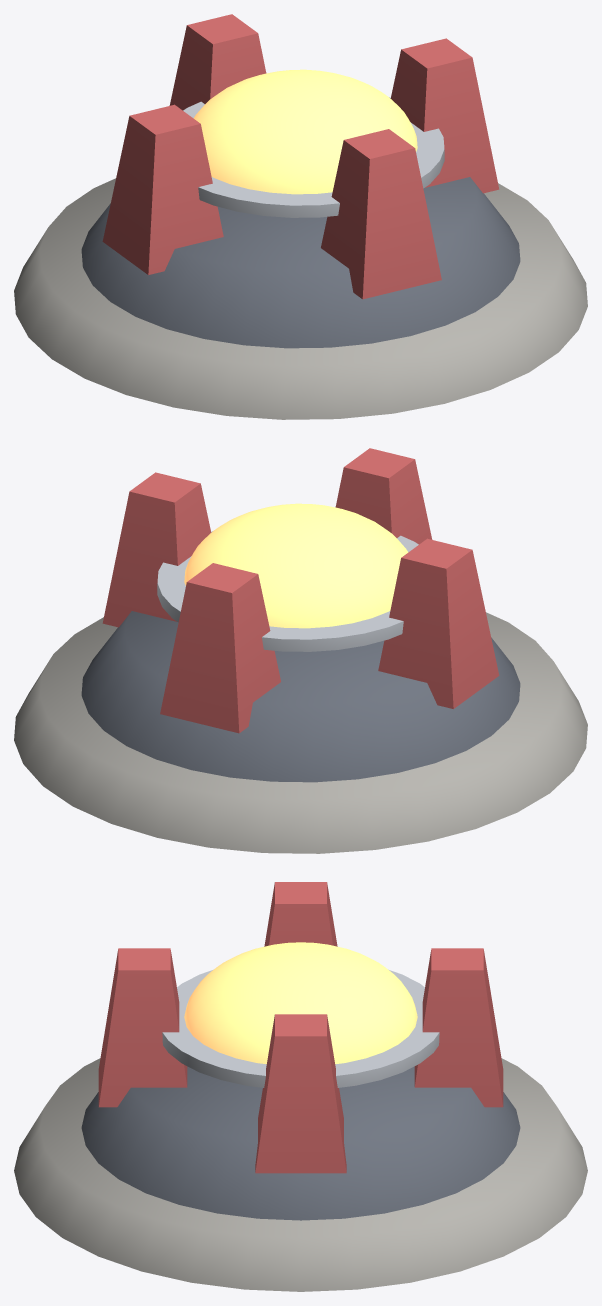
Rendered from nairon.glb.
3 views of the same model, one above another, from view 1: azimuth 30°, elevation 25°; view 2: azimuth 150°, elevation 25°; view 3: azimuth 270°, elevation 25° (orthographic).
Visible parts, largest first — view 1: Hull; view 2: Hull; view 3: Hull.
Boxes of the visible parts, box(x1,y1,x2,y2) form: Hull: box(14, 14, 587, 419); Hull: box(14, 448, 587, 853); Hull: box(14, 882, 587, 1291).
Size of the model in its own units: 4.75 by 1.93 by 4.75.
